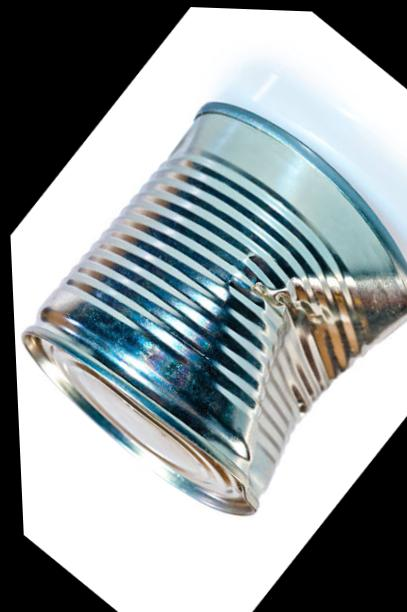metal: (23, 70, 406, 512)
